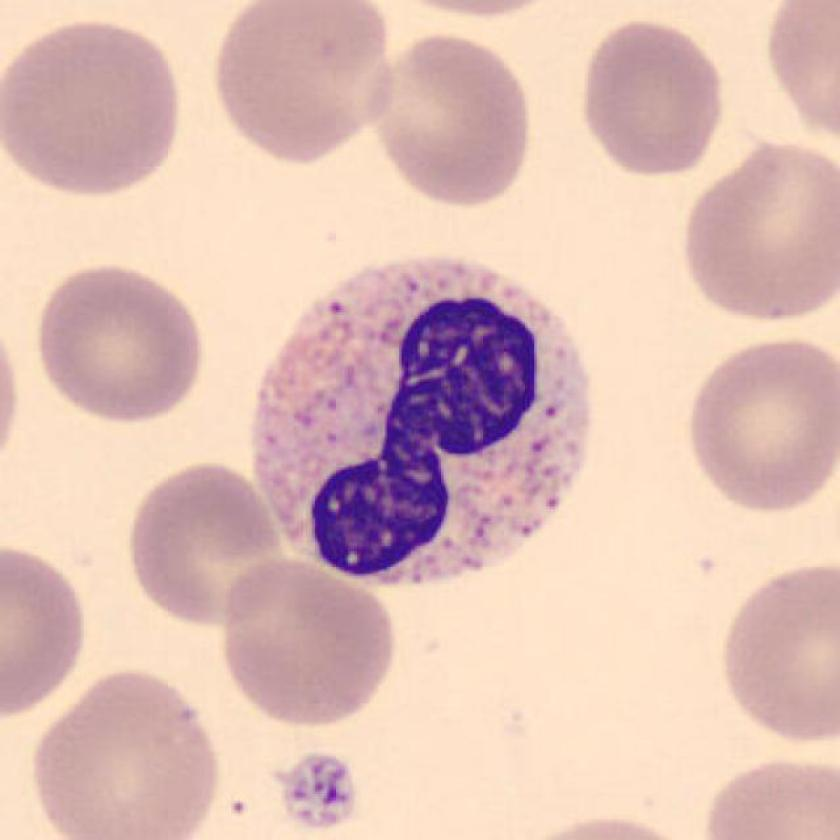neutrophil: (252, 258, 590, 581)
